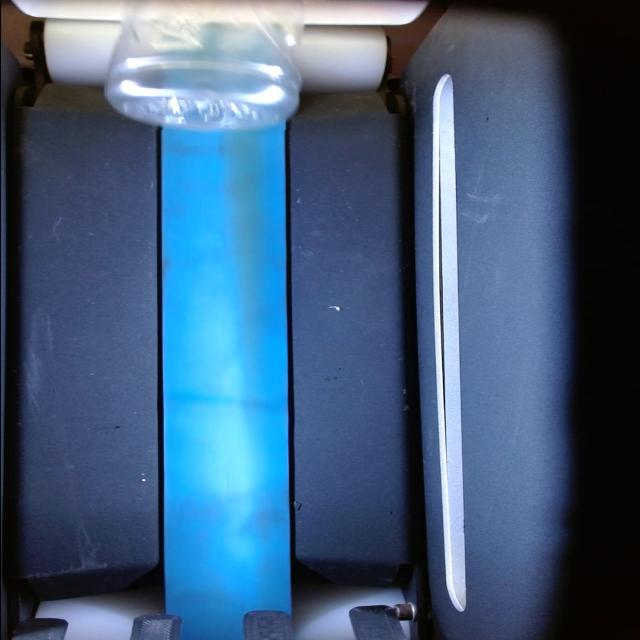bottom: (105, 0, 303, 130)
